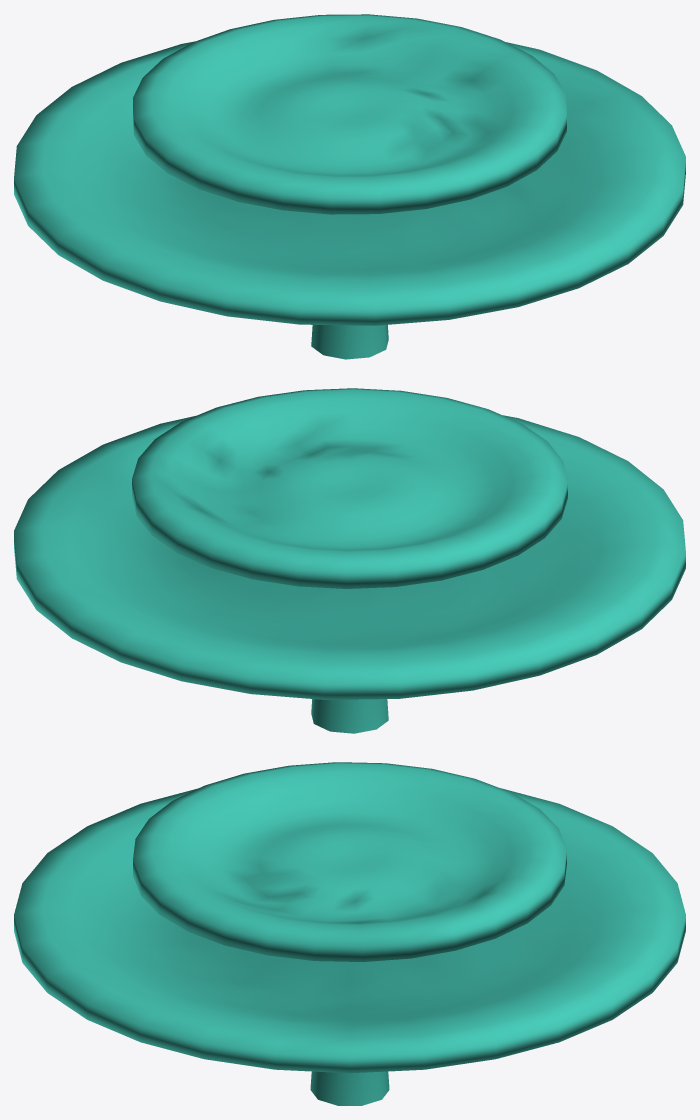
Rendered from coral_table.glb.
3 renders of one model, top to bottom at view 1: azimuth 30°, elevation 25°; view 2: azimuth 150°, elevation 25°; view 3: azimuth 270°, elevation 25°, orthographic.
Parts seen in each view (by area): view 1: coral_table_mesh; view 2: coral_table_mesh; view 3: coral_table_mesh.
Boxes of the visible parts, x1,y1,x2,y2 form: coral_table_mesh: (14, 14, 685, 359); coral_table_mesh: (14, 388, 685, 733); coral_table_mesh: (14, 762, 685, 1105).
Bounding box in the file's own units: 2.21 × 0.8783 × 2.21.
